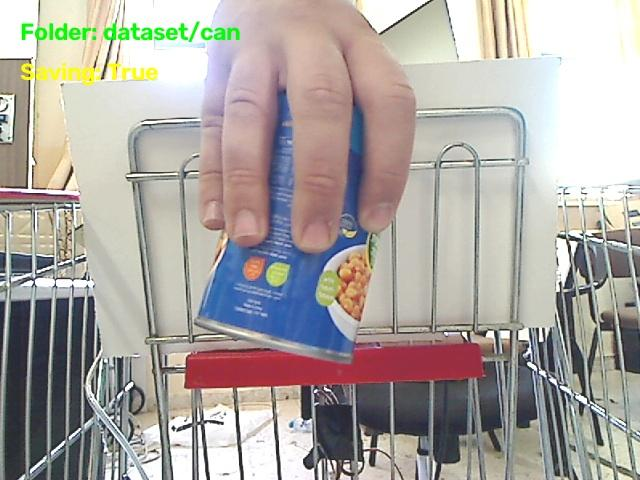can: (196, 93, 377, 360)
